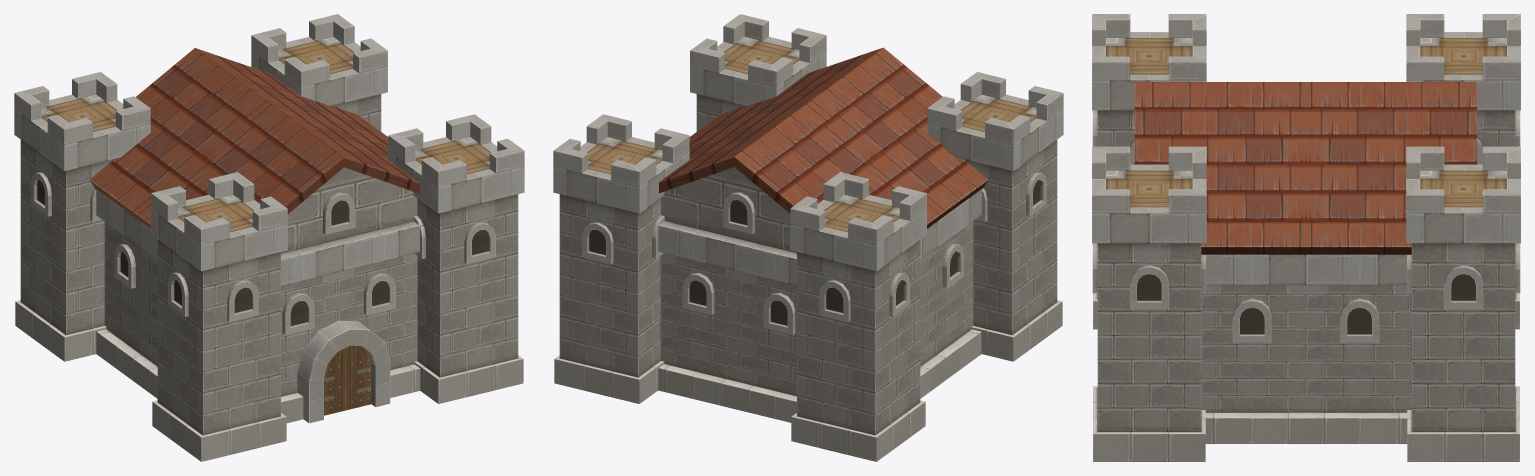
File: CastleBuilding02.FBX
3 renders of one model, left to right at view 1: azimuth 30°, elevation 25°; view 2: azimuth 150°, elevation 25°; view 3: azimuth 270°, elevation 25°, orthographic. The views are drawn at different scales.
Parts seen in each view (by area): view 1: CastleBuilding (×5), Door; view 2: CastleBuilding (×5); view 3: CastleBuilding (×5).
Boxes of the visible parts, x1,y1,x2,y2 form: CastleBuilding (×5): [14, 14, 524, 461]; Door: [297, 320, 390, 423]; CastleBuilding (×5): [553, 14, 1063, 461]; CastleBuilding (×5): [1092, 14, 1520, 461].
Bounding box in the file's own units: 1327 × 989 × 1327.
